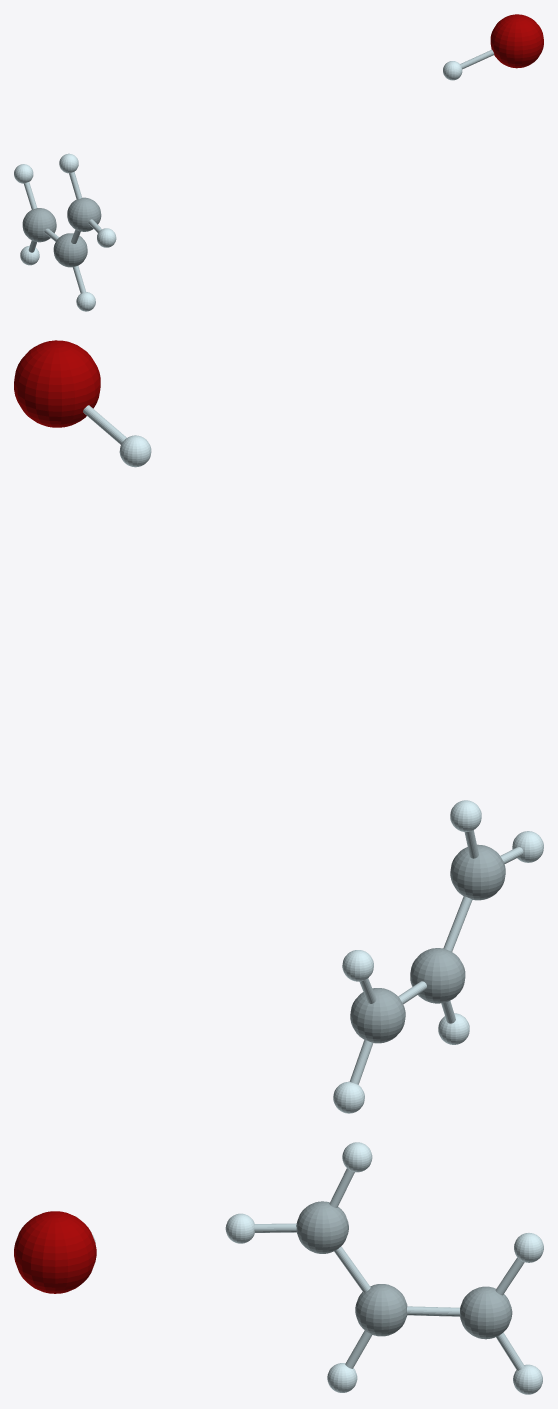
The model's file is irc_step_062.glb.
3 renders of one model, top to bottom at view 1: azimuth 30°, elevation 25°; view 2: azimuth 150°, elevation 25°; view 3: azimuth 270°, elevation 25°, orthographic. The views are drawn at different scales.
Parts seen in each view (by area): view 1: Renderer Node; view 2: Renderer Node; view 3: Renderer Node.
Part boxes in pixels (bbox=[...]): Renderer Node: bbox=[14, 14, 543, 311]; Renderer Node: bbox=[14, 340, 543, 1113]; Renderer Node: bbox=[14, 1142, 543, 1394].
Bounding box in the file's own units: 9.05 × 6.3 × 7.03.
